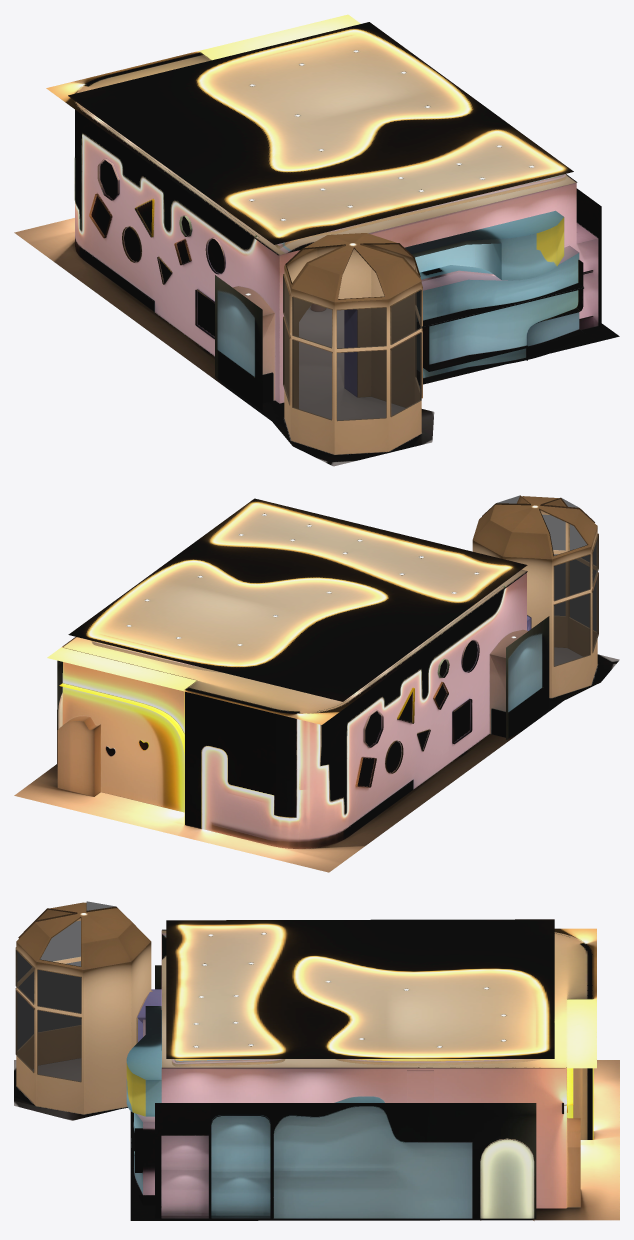
The model's file is kids store.glb.
3 views of the same model, one above another, from view 1: azimuth 30°, elevation 25°; view 2: azimuth 150°, elevation 25°; view 3: azimuth 270°, elevation 25° (orthographic). The views are drawn at different scales.
Parts seen in each view (by area): view 1: cilleinge, polySurface49, round_room, floor1, polySurface55.001, side_assets1; view 2: cilleinge, polySurface49, floor1, round_room, polySurface55.001, side_assets1; view 3: cilleinge, floor1, polySurface49, round_room, polySurface55.001, side_assets1.
Part boxes in pixels (bbox=[...]): cilleinge: bbox=[46, 14, 577, 255]; polySurface49: bbox=[75, 52, 598, 403]; round_room: bbox=[283, 233, 422, 454]; floor1: bbox=[14, 188, 619, 466]; polySurface55.001: bbox=[283, 275, 421, 420]; side_assets1: bbox=[74, 52, 593, 400]; cilleinge: bbox=[47, 498, 527, 724]; polySurface49: bbox=[57, 569, 531, 848]; floor1: bbox=[14, 616, 619, 872]; round_room: bbox=[472, 495, 598, 698]; polySurface55.001: bbox=[496, 495, 598, 666]; side_assets1: bbox=[59, 585, 542, 828]; cilleinge: bbox=[162, 919, 596, 1068]; floor1: bbox=[14, 965, 619, 1220]; polySurface49: bbox=[126, 930, 592, 1220]; round_room: bbox=[15, 902, 151, 1114]; polySurface55.001: bbox=[15, 901, 115, 1082]; side_assets1: bbox=[131, 933, 593, 1194].
Size of the model in its own units: 0.7539 by 0.3798 by 1.17.
15 materials, 7 textured.
